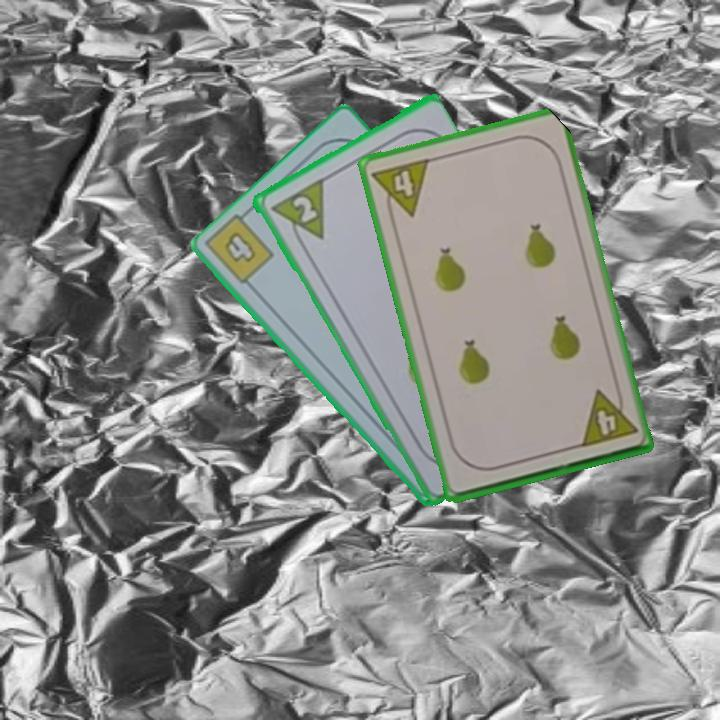2p: (288, 191, 320, 226)
4b: (220, 227, 259, 266)
4p: (368, 154, 432, 224), (576, 382, 640, 450)
